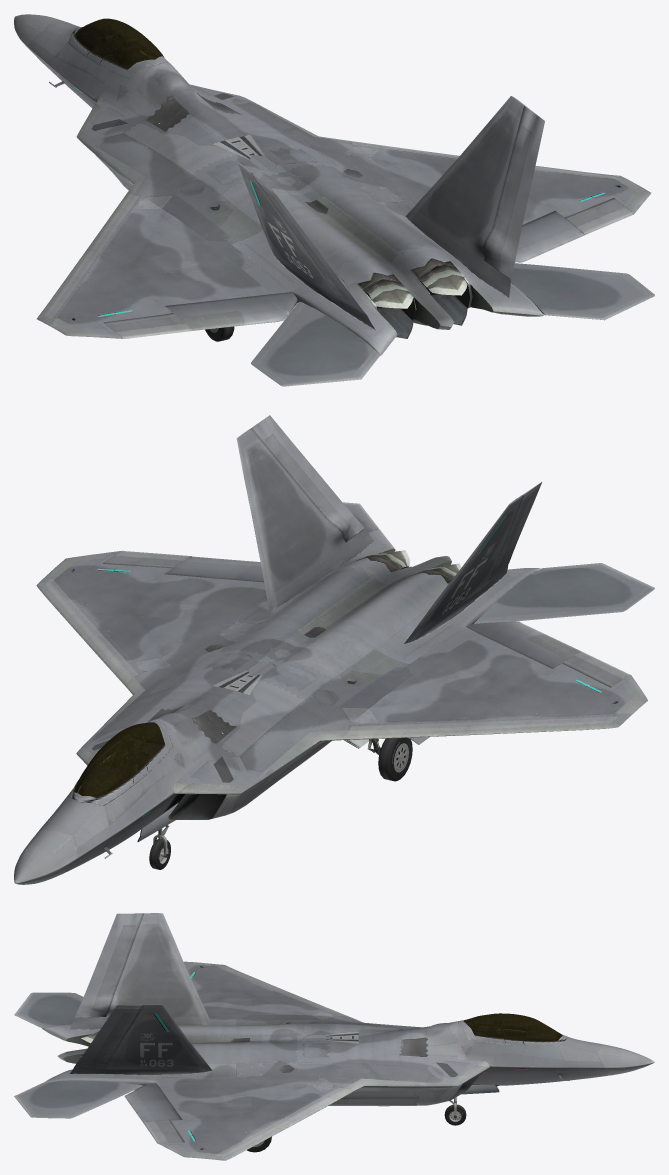
3 views of the same model, one above another, from view 1: azimuth 30°, elevation 25°; view 2: azimuth 150°, elevation 25°; view 3: azimuth 270°, elevation 25° (orthographic). The views are drawn at different scales.
Parts seen in each view (by area): view 1: bodyshell_4, elevator_l_9, wing_r.001_38, wing_r_6, rudder.001_37, wingflap_l_27, chassis_8, window_lf_35, break_extra_1_26, wingflap_r_30, rudder_18, aileron_l_25 (+4 smaller); view 2: bodyshell_4, wing_r.001_38, wing_r_6, elevator_l_9, break_extra_1_26, chassis_8, window_lf_35, rudder.001_37, break_extra_6_28, wingflap_l_27, door_dside_f_14, wingflap_r_30 (+4 smaller); view 3: bodyshell_4, wing_r_6, elevator_l_9, wing_r.001_38, rudder_18, window_lf_35, break_extra_6_28, rudder.001_37, wingflap_r_30, chassis_8, door_dside_f_14, break_extra_1_26 (+3 smaller).
Boxes of the visible parts, box(x1,y1,x2,y2) form: bodyshell_4: box(14, 14, 604, 355); elevator_l_9: box(251, 263, 654, 386); wing_r.001_38: box(50, 196, 270, 338); wing_r_6: box(352, 145, 650, 224); rudder.001_37: box(483, 106, 544, 279); wingflap_l_27: box(165, 292, 298, 330); chassis_8: box(68, 26, 276, 212); window_lf_35: box(75, 18, 164, 68); break_extra_1_26: box(37, 191, 141, 325); wingflap_r_30: box(515, 211, 584, 262); rudder_18: box(251, 172, 365, 314); aileron_l_25: box(104, 313, 192, 338); bodyshell_4: box(14, 429, 600, 884); wing_r.001_38: box(350, 634, 647, 724); wing_r_6: box(50, 550, 264, 673); elevator_l_9: box(343, 502, 654, 623); break_extra_1_26: box(338, 713, 631, 740); chassis_8: box(78, 662, 361, 805); window_lf_35: box(74, 722, 164, 797); rudder.001_37: box(250, 415, 364, 541); break_extra_6_28: box(36, 572, 141, 687); wingflap_l_27: box(466, 621, 581, 668); door_dside_f_14: box(68, 721, 172, 805); wingflap_r_30: box(164, 556, 263, 582); bodyshell_4: box(42, 913, 654, 1141); wing_r_6: box(158, 1084, 336, 1158); elevator_l_9: box(14, 992, 143, 1118); wing_r.001_38: box(183, 961, 336, 1016); rudder_18: box(74, 913, 144, 1017); window_lf_35: box(463, 1013, 562, 1041); break_extra_6_28: box(206, 1086, 355, 1160); rudder.001_37: box(75, 1004, 144, 1067); wingflap_r_30: box(124, 1083, 182, 1122); chassis_8: box(279, 1019, 557, 1040); door_dside_f_14: box(458, 1019, 568, 1047); break_extra_1_26: box(207, 963, 351, 1017).
Size of what is drawn, in the model's own units: 13.66 by 5.39 by 18.91.
Materials: 27 (26 with a texture image).
